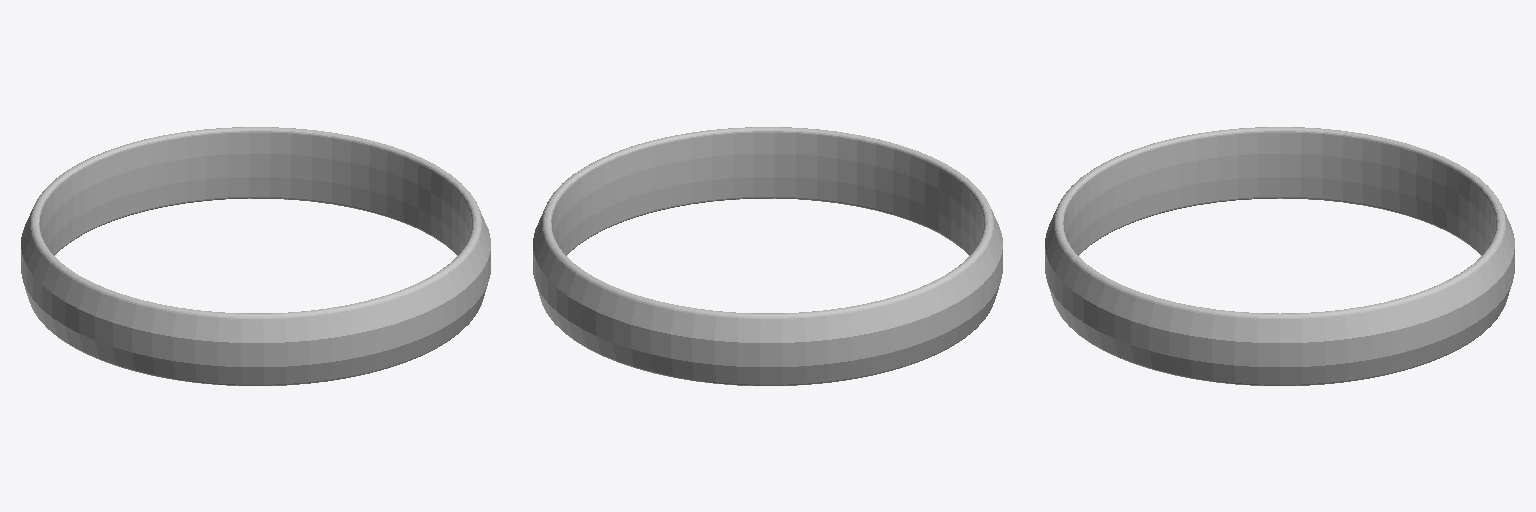
The model's file is the-one-ring.obj.
3 views of the same model, side by side, from view 1: azimuth 30°, elevation 25°; view 2: azimuth 150°, elevation 25°; view 3: azimuth 270°, elevation 25° (orthographic).
Visible parts, largest first — view 1: Ring; view 2: Ring; view 3: Ring.
Boxes of the visible parts, <box> form: Ring: <box>21,127,490,385</box>; Ring: <box>533,127,1002,385</box>; Ring: <box>1045,127,1514,385</box>.
Size of the model in its own units: 2.06 by 0.34 by 2.06.